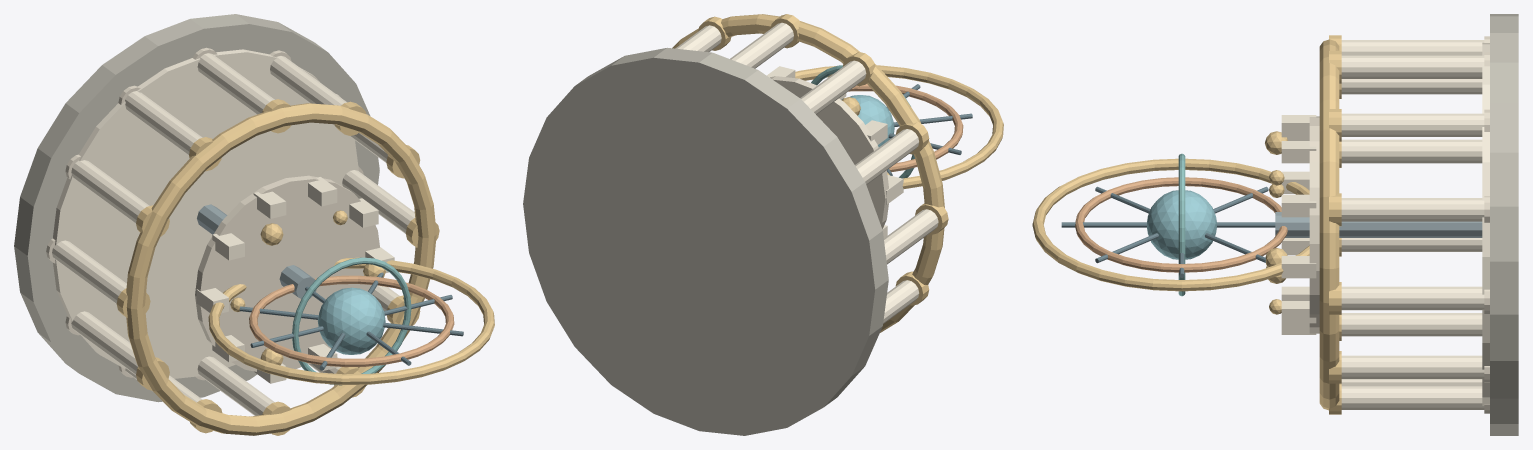
The model's file is astral_observatory_creator.glb.
3 views of the same model, side by side, from view 1: azimuth 30°, elevation 25°; view 2: azimuth 150°, elevation 25°; view 3: azimuth 270°, elevation 25° (orthographic). The views are drawn at different scales.
Parts seen in each view (by area): view 1: InnerPlinth_0001, OuterPlinth_0000, BrassRotundaRing_0038, ObservationDeck_0053, AstrolabeGreatRing_0039, AstrolabeInnerRing_0040, HeartOfObservatory_0050, AstrolabeRotatingAxis_0041, ObservatoryColumn_0023, ObservatoryColumn_0026, ObservatoryColumn_0020, ObservatoryColumn_0029 (+10 smaller); view 2: OuterPlinth_0000, BrassRotundaRing_0038, ObservationDeck_0053, AstrolabeGreatRing_0039, ObservatoryColumn_0023, ObservatoryColumn_0026, ObservatoryColumn_0020, ObservatoryColumn_0029, AstrolabeInnerRing_0040, HeartOfObservatory_0050, ObservatoryColumn_0017, ObservatoryColumn_0032; view 3: OuterPlinth_0000, BrassRotundaRing_0038, AstrolabeGreatRing_0039, AstrolabeInnerRing_0040, ObservatoryColumn_0002, ObservatoryColumn_0005, ObservatoryColumn_0020, ObservatoryColumn_0035, ObservatoryColumn_0032, ObservatoryColumn_0029, HeartOfObservatory_0050, ObservatoryColumn_0008 (+15 smaller).
Part boxes in pixels (left/top/right/bottom): InnerPlinth_0001: left=53, top=49, right=358, bottom=378; OuterPlinth_0000: left=14, top=14, right=379, bottom=402; BrassRotundaRing_0038: left=126, top=103, right=436, bottom=435; ObservationDeck_0053: left=195, top=175, right=379, bottom=371; AstrolabeGreatRing_0039: left=208, top=257, right=494, bottom=384; AstrolabeInnerRing_0040: left=249, top=275, right=454, bottom=367; HeartOfObservatory_0050: left=317, top=287, right=385, bottom=354; AstrolabeRotatingAxis_0041: left=292, top=257, right=411, bottom=385; ObservatoryColumn_0023: left=71, top=160, right=149, bottom=223; ObservatoryColumn_0026: left=125, top=91, right=202, bottom=155; ObservatoryColumn_0020: left=52, top=240, right=126, bottom=304; ObservatoryColumn_0029: left=197, top=53, right=274, bottom=114; OuterPlinth_0000: left=523, top=47, right=888, bottom=435; BrassRotundaRing_0038: left=672, top=14, right=944, bottom=332; ObservationDeck_0053: left=770, top=76, right=888, bottom=229; AstrolabeGreatRing_0039: left=795, top=65, right=1003, bottom=188; ObservatoryColumn_0023: left=855, top=129, right=918, bottom=184; ObservatoryColumn_0026: left=800, top=60, right=866, bottom=114; ObservatoryColumn_0020: left=884, top=209, right=938, bottom=264; ObservatoryColumn_0029: left=730, top=22, right=793, bottom=68; AstrolabeInnerRing_0040: left=848, top=83, right=963, bottom=172; HeartOfObservatory_0050: left=850, top=95, right=894, bottom=147; ObservatoryColumn_0017: left=883, top=280, right=919, bottom=323; ObservatoryColumn_0032: left=675, top=25, right=721, bottom=51; OuterPlinth_0000: left=1490, top=14, right=1518, bottom=435; BrassRotundaRing_0038: left=1319, top=39, right=1339, bottom=410; AstrolabeGreatRing_0039: left=1032, top=158, right=1309, bottom=291; AstrolabeInnerRing_0040: left=1075, top=177, right=1287, bottom=272; ObservatoryColumn_0002: left=1341, top=286, right=1484, bottom=310; ObservatoryColumn_0005: left=1341, top=355, right=1484, bottom=379; ObservatoryColumn_0020: left=1341, top=139, right=1482, bottom=163; ObservatoryColumn_0035: left=1341, top=198, right=1484, bottom=221; ObservatoryColumn_0032: left=1341, top=113, right=1484, bottom=136; ObservatoryColumn_0029: left=1341, top=55, right=1484, bottom=78; HeartOfObservatory_0050: left=1147, top=190, right=1216, bottom=259; ObservatoryColumn_0008: left=1341, top=386, right=1484, bottom=409.
Size of the model in its own units: 13.4 by 13.4 by 15.38.
